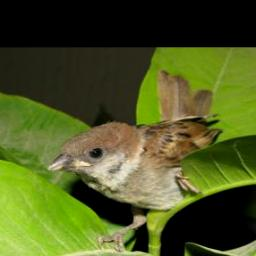Sparrow: (43, 69, 225, 253)
